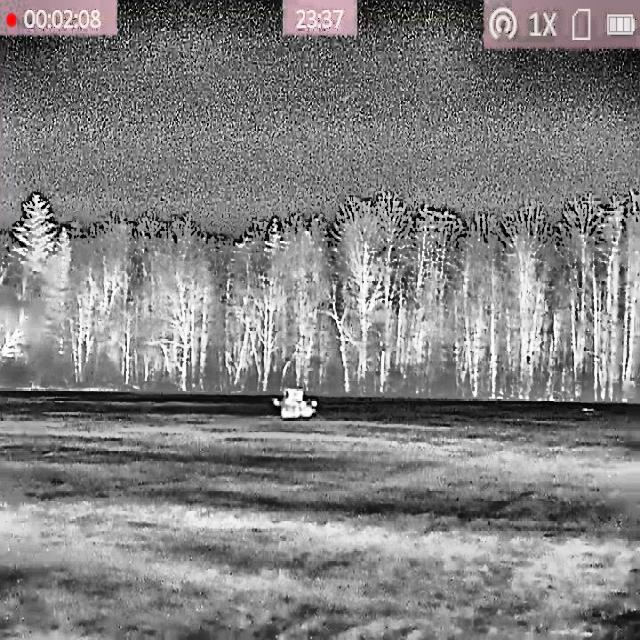drone: (273, 386, 318, 420)
